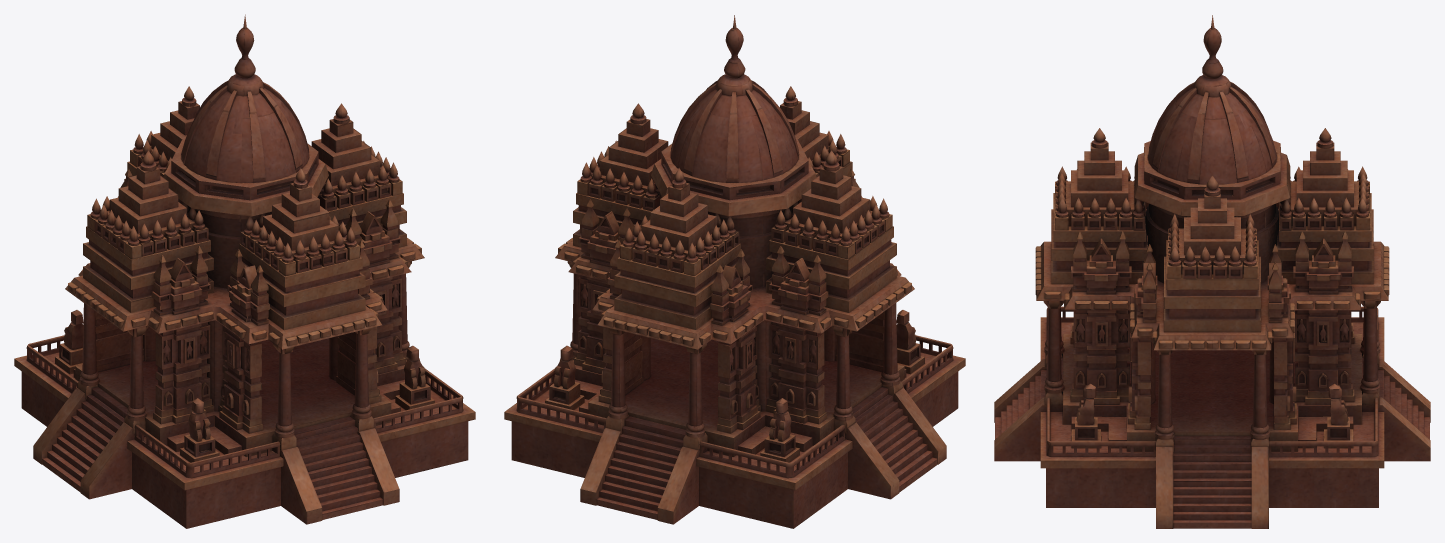
File: Tempal.glb
3 views of the same model, side by side, from view 1: azimuth 30°, elevation 25°; view 2: azimuth 150°, elevation 25°; view 3: azimuth 270°, elevation 25° (orthographic).
Parts seen in each view (by area): view 1: Plane.017; view 2: Plane.017; view 3: Plane.017.
Part boxes in pixels (x1,y1,x2,y2): Plane.017: [14, 14, 475, 528]; Plane.017: [504, 15, 965, 528]; Plane.017: [994, 15, 1430, 528].
Size of the model in its own units: 53.22 by 58.17 by 54.22.
Materials: 1 (1 with a texture image).
